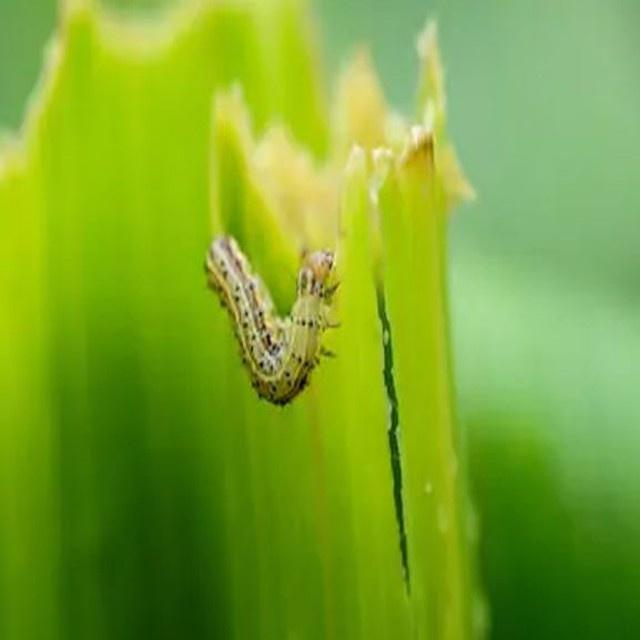gusano_cogollero: (198, 230, 344, 408)
